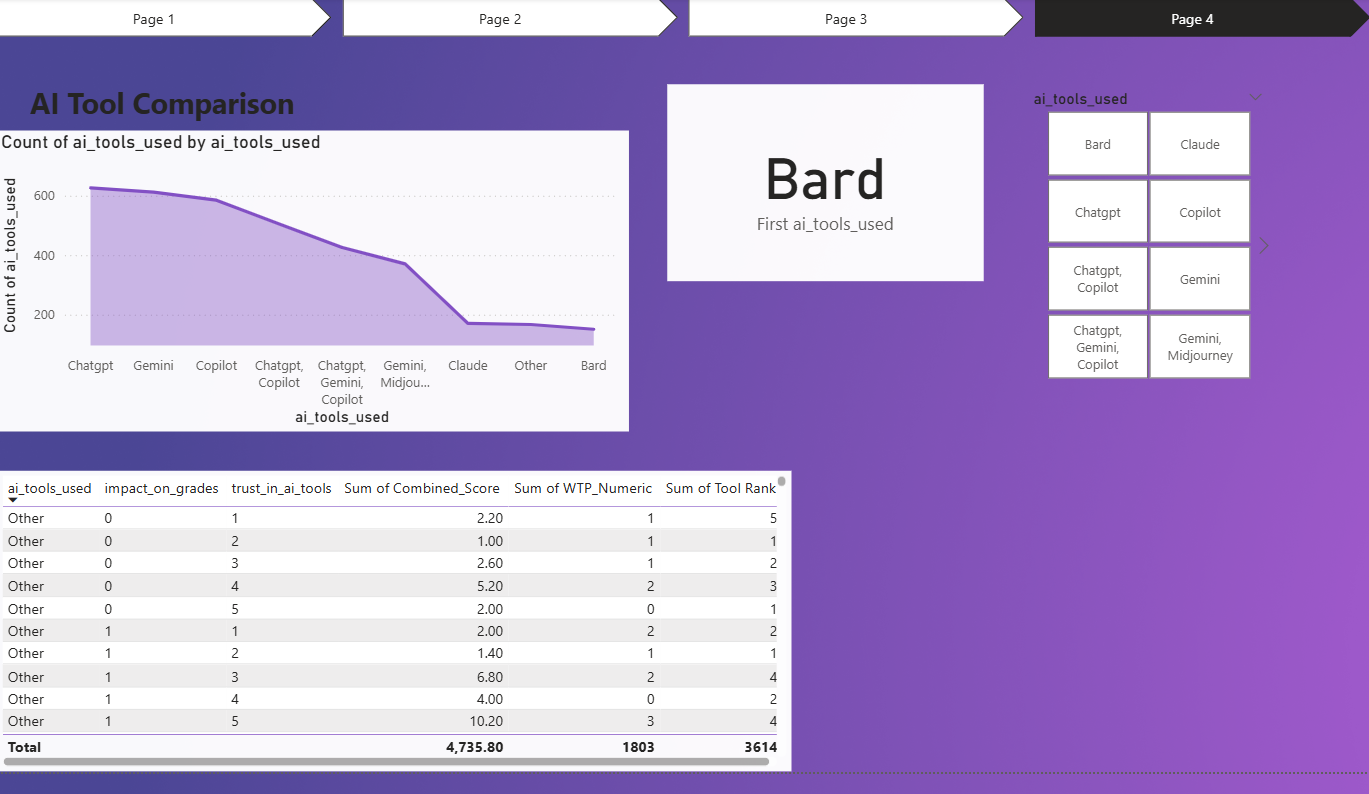

Layout of this report page (visuals, bound fields, positions):
{"tool":"powerbi","page":{"name":"Page 4","canvas":[1280,720],"ordinal":3},"visuals":[{"type":"areaChart","fields":{"Category":["Data.ai_tools_used"],"Y":["CountNonNull(Data.ai_tools_used)"]},"box":[0,122.9,588.6,280],"z":0},{"type":"card","fields":{"Values":["Min(Data.ai_tools_used)"]},"box":[624.3,80,294.3,182.9],"z":1000},{"type":"tableEx","fields":{"Values":["Data.ai_tools_used","Data.impact_on_grades","Data.trust_in_ai_tools","Sum(Data.Combined_Score)","Sum(Data.WTP_Numeric)","Sum(Data.Tool Rank)"]},"box":[0,440,740,280],"z":2000},{"type":"textbox","box":[27.1,74.3,294.3,48.6],"z":3000},{"type":"pageNavigator","box":[0,0,1280.2,36],"z":4000},{"type":"slicer","fields":{"Values":["Data.ai_tools_used"]},"box":[952.3,80.2,238.4,280.2],"z":5000}]}

Visuals, with their boxes on the page's 1280x720 design canvas (x1, y1, x2, y2). These are canvas units, not pixel positions in the 1369x794 screenshot, which may show the page scaled, cropped or inside an application window:
areaChart - Data.ai_tools_used x CountNonNull(Data.ai_tools_used): [left=0, top=123, right=589, bottom=403]
card - Min(Data.ai_tools_used): [left=624, top=80, right=919, bottom=263]
tableEx - Data.ai_tools_used x Data.impact_on_grades: [left=0, top=440, right=740, bottom=720]
textbox: [left=27, top=74, right=321, bottom=123]
pageNavigator: [left=0, top=0, right=1280, bottom=36]
slicer - Data.ai_tools_used: [left=952, top=80, right=1191, bottom=360]
